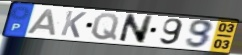9: (184, 19, 216, 49), (158, 18, 184, 46)
A: (25, 8, 57, 37)
K: (59, 9, 89, 39)
N: (117, 13, 155, 45)
Q: (90, 12, 121, 42)
